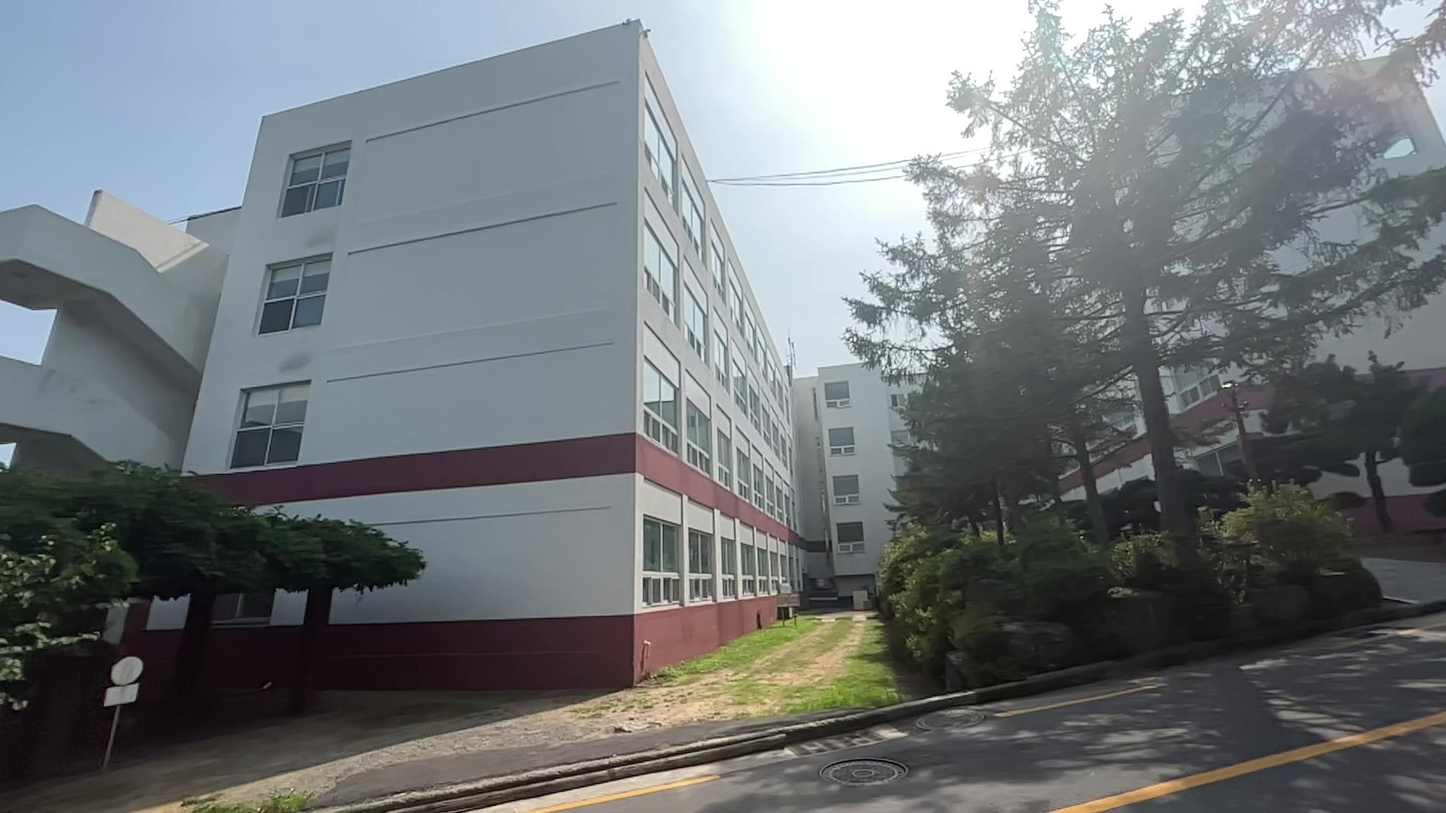medium: (19, 33, 869, 694)
